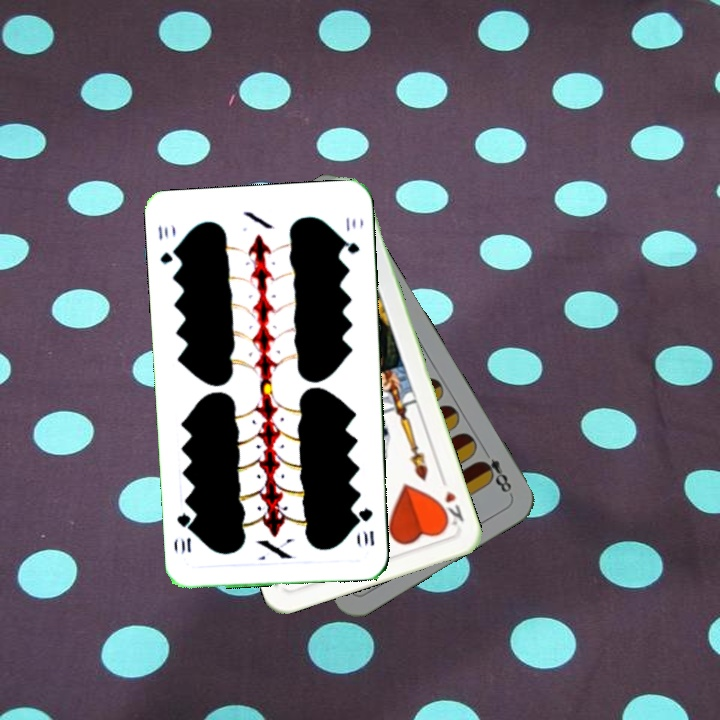E8: (475, 444, 515, 498)
G10: (154, 221, 181, 268), (355, 504, 377, 548)
HK: (434, 472, 467, 529)
